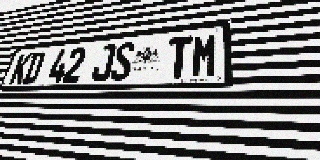2: (62, 47, 87, 83)
4: (46, 49, 72, 83)
D: (22, 51, 46, 84)
J: (90, 44, 117, 82)
K: (9, 53, 33, 84)
M: (191, 33, 218, 78)
S: (109, 42, 136, 81)
T: (165, 36, 193, 79)
